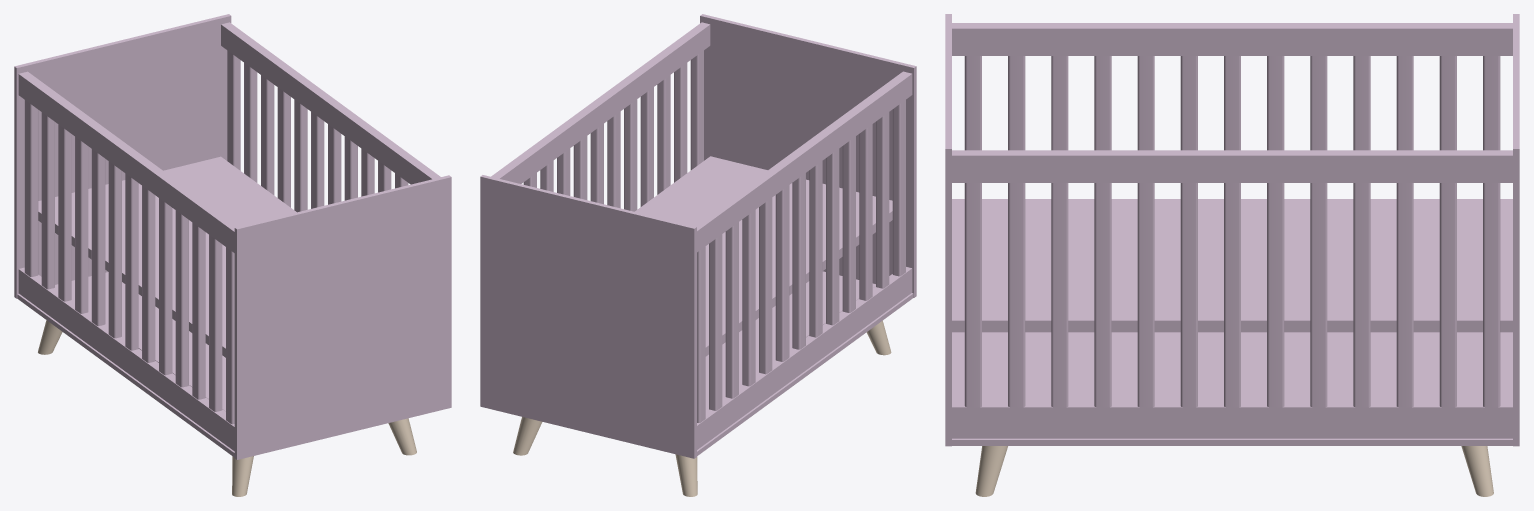
Rendered from cradle.glb.
3 views of the same model, side by side, from view 1: azimuth 30°, elevation 25°; view 2: azimuth 150°, elevation 25°; view 3: azimuth 270°, elevation 25° (orthographic). The views are drawn at different scales.
Parts seen in each view (by area): view 1: Object_2, Object_3; view 2: Object_2, Object_3; view 3: Object_2, Object_3.
Boxes of the visible parts, x1,y1,x2,y2 form: Object_2: [14, 14, 451, 459]; Object_3: [38, 320, 416, 496]; Object_2: [480, 14, 916, 458]; Object_3: [513, 320, 891, 496]; Object_2: [945, 14, 1519, 446]; Object_3: [975, 446, 1493, 496].
Bounding box in the file's own units: 0.74 × 0.922 × 1.33.
